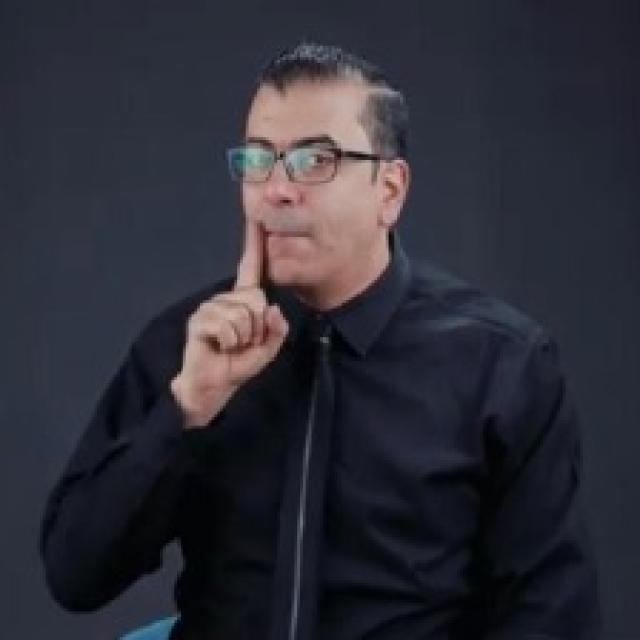mother: (177, 212, 297, 391)
